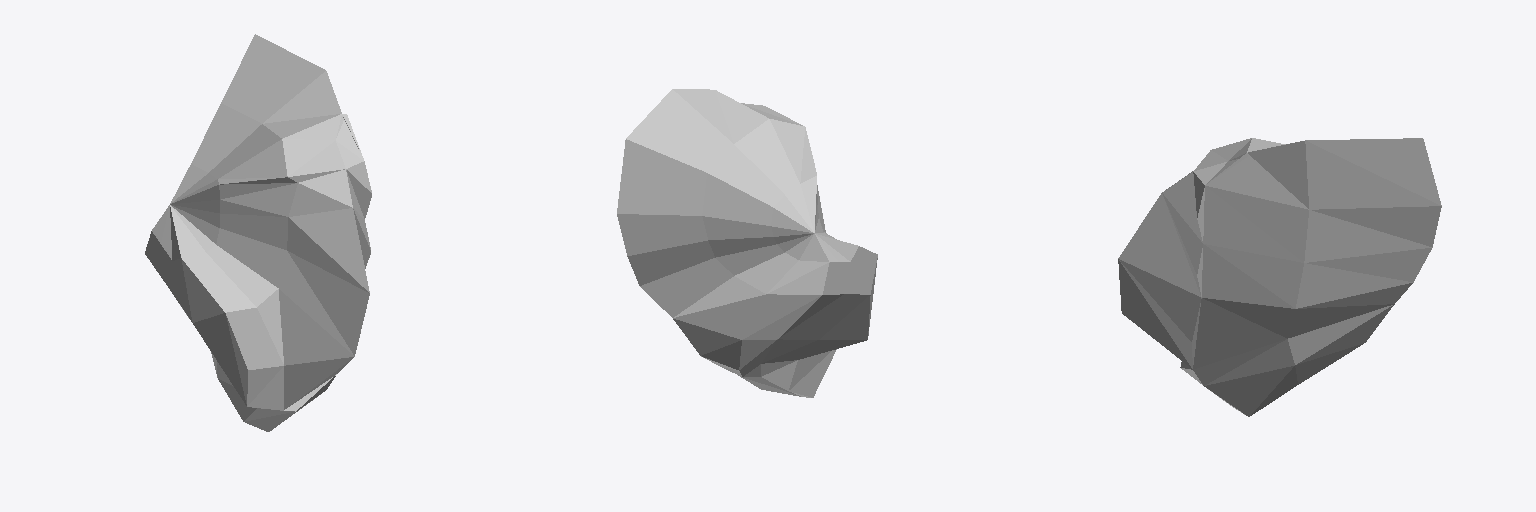
The model's file is spinosaurusLeftThighOfficial.obj.
The picture shows the model from 3 angles: view 1: azimuth 30°, elevation 25°; view 2: azimuth 150°, elevation 25°; view 3: azimuth 270°, elevation 25°; orthographic projection.
Parts seen in each view (by area): view 1: LeftHamstring_Cube.001; view 2: LeftHamstring_Cube.001; view 3: LeftHamstring_Cube.001.
Part boxes in pixels (left/top/right/bottom): LeftHamstring_Cube.001: left=145, top=34, right=371, bottom=431; LeftHamstring_Cube.001: left=617, top=89, right=877, bottom=397; LeftHamstring_Cube.001: left=1118, top=138, right=1441, bottom=416.
Bounding box in the file's own units: 0.8427 × 1.51 × 1.42.